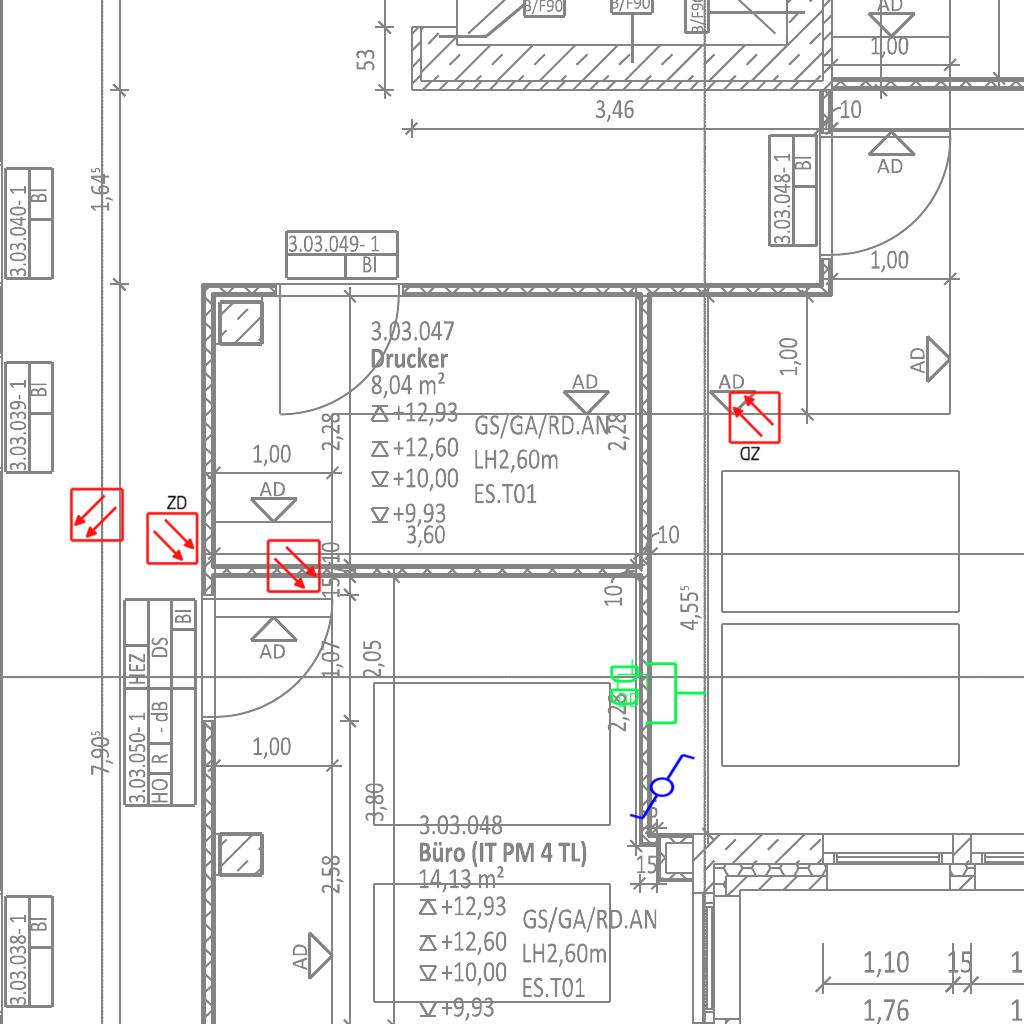Datenanschluss_zweifach: (606, 658, 709, 727), (615, 658, 649, 709)
RMO_Rauchmelder_optischer: (266, 538, 322, 594), (69, 487, 125, 543)
Wechselschalter: (619, 750, 697, 822)
ZD_Melder_in_Zwischendecke_mit_Revisionsoeffnung_mind_40_x_40_cm: (727, 390, 784, 464), (143, 492, 200, 566)
